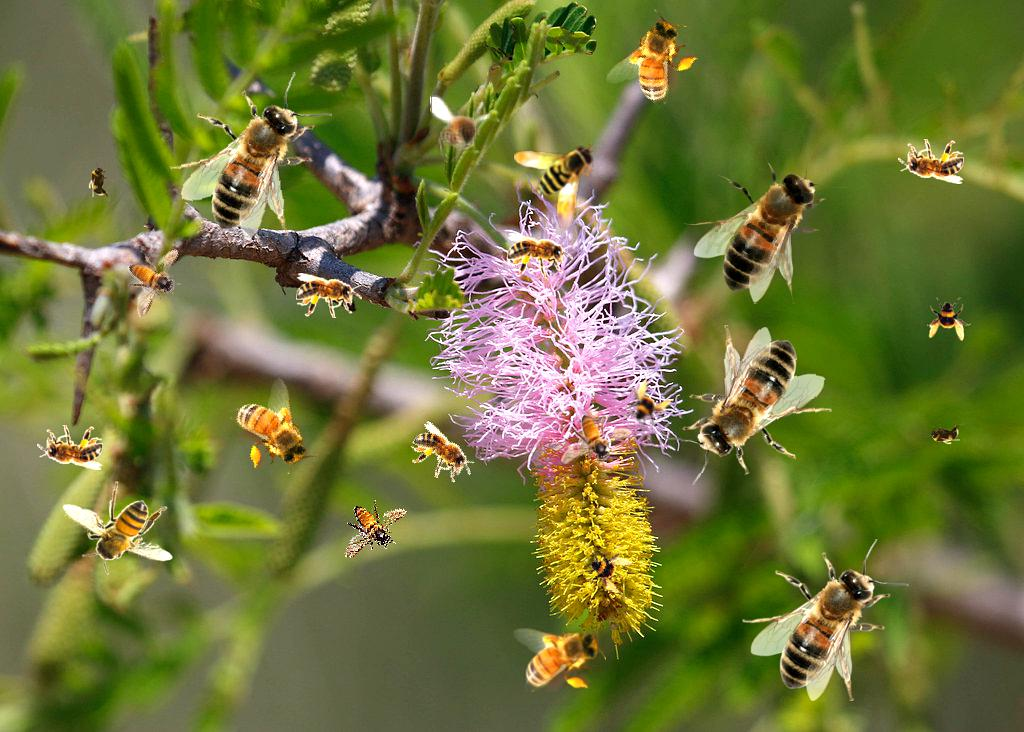Bee: (160, 68, 345, 248), (660, 321, 837, 493), (742, 539, 909, 701), (684, 142, 851, 304), (600, 3, 712, 120), (223, 374, 321, 487), (62, 481, 173, 575), (110, 235, 198, 320), (514, 144, 596, 232), (513, 624, 606, 692), (403, 419, 483, 492), (333, 493, 415, 560), (429, 92, 494, 166), (614, 374, 676, 436), (561, 414, 632, 464), (578, 539, 636, 597), (898, 139, 964, 184), (507, 233, 573, 278), (296, 273, 362, 318), (37, 425, 103, 470), (927, 297, 971, 341), (88, 161, 110, 201), (924, 423, 964, 445)
